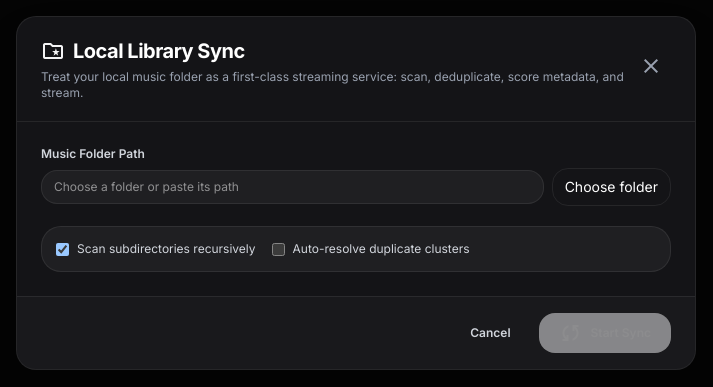
Test: LocalLibrarySyncModal › lets the user choose a local folder through the native dialog
Click the button with test id "local-folder-picker" at (611, 187), box [552,168,671,206]
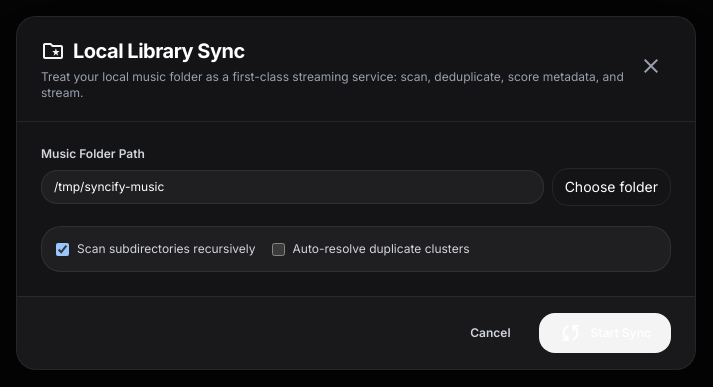
Expected: the field holds "/tmp/syncify-music", [41,170,544,204]
